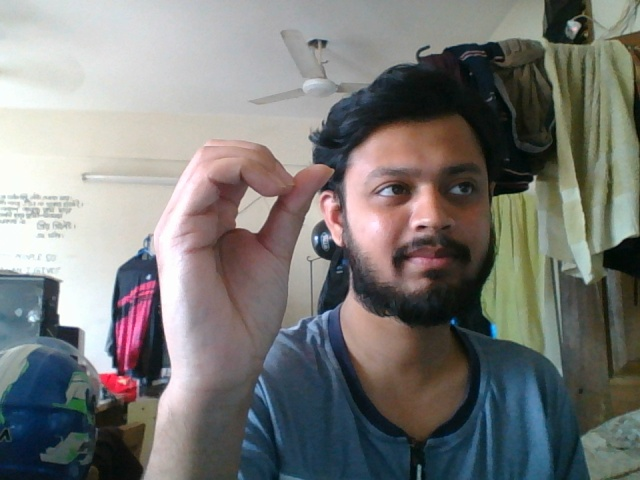ae: (142, 128, 345, 436)
